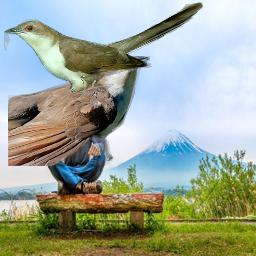Cuckoo: (4, 1, 203, 92), (8, 56, 150, 166)
